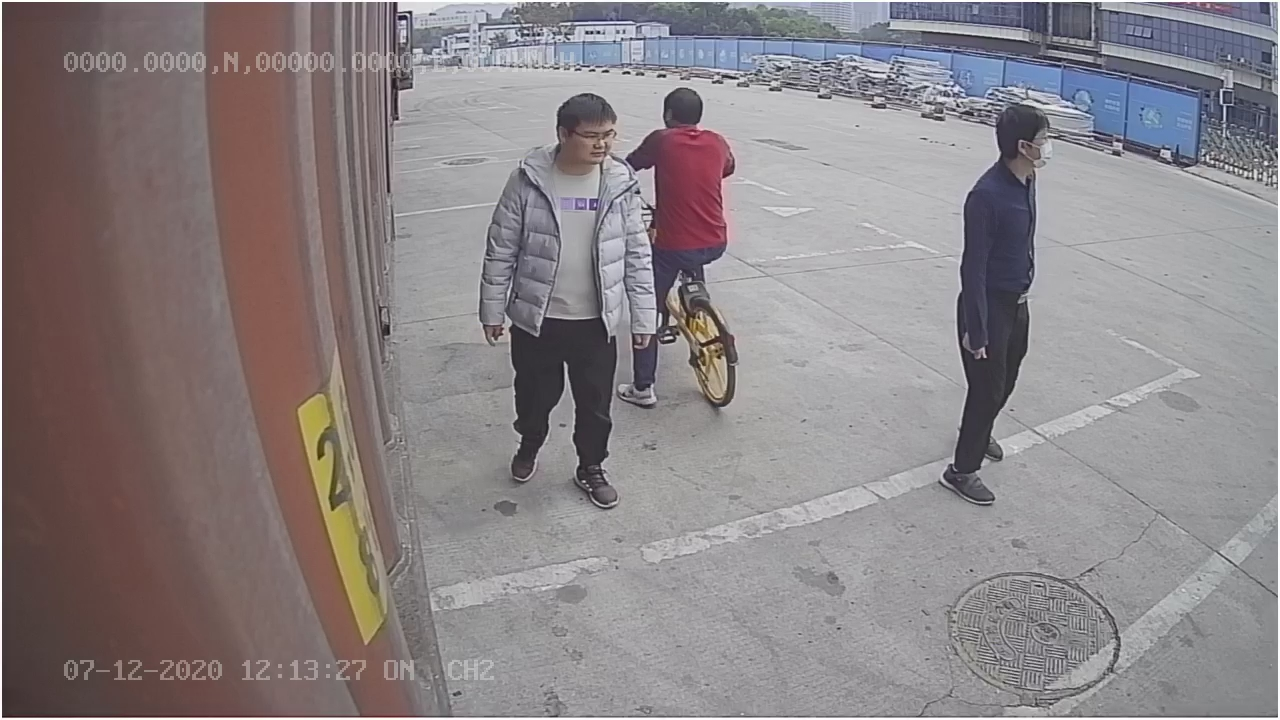person: (936, 100, 1057, 503)
